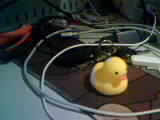duck: (84, 50, 137, 96)
